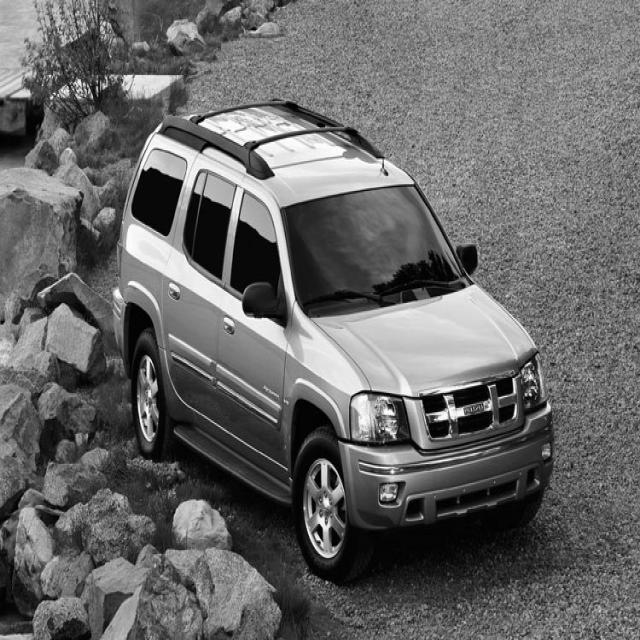car: (111, 97, 555, 585)
